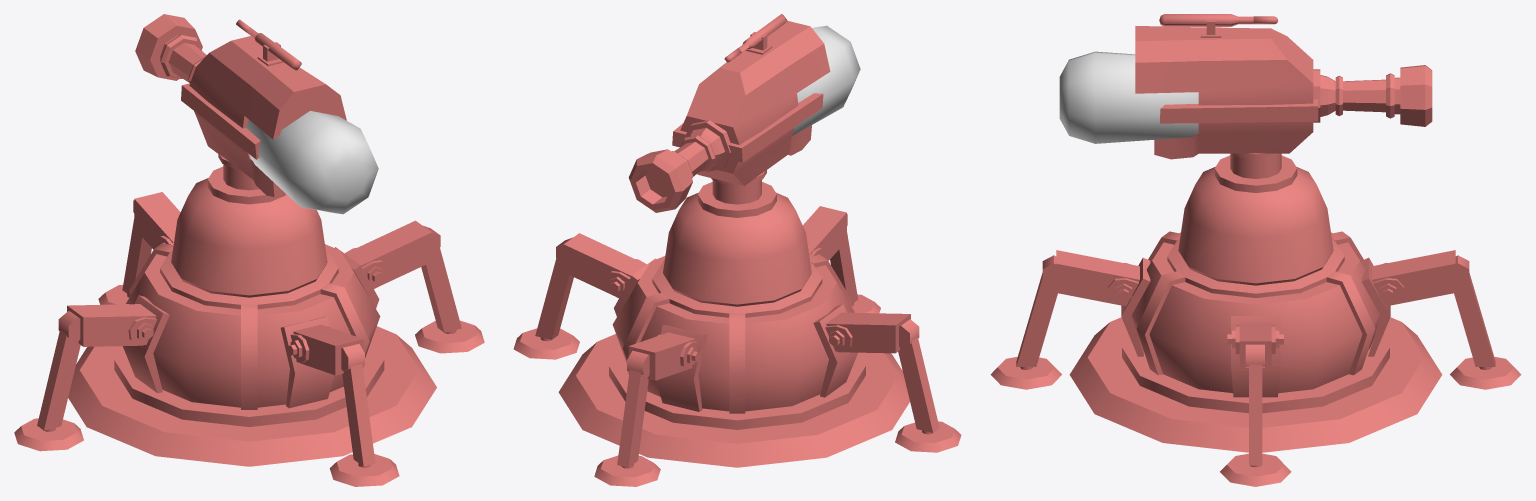
File: white_cell_tower.fbx
The picture shows the model from 3 angles, left to right: view 1: azimuth 30°, elevation 25°; view 2: azimuth 150°, elevation 25°; view 3: azimuth 270°, elevation 25°; orthographic projection. The views are drawn at different scales.
Visible parts, largest first — view 1: Turret; view 2: Turret; view 3: Turret.
Boxes of the visible parts, x1,y1,x2,y2 form: Turret: [14, 14, 484, 486]; Turret: [513, 14, 961, 486]; Turret: [990, 14, 1521, 486].
Bounding box in the file's own units: 379 × 284 × 379.
